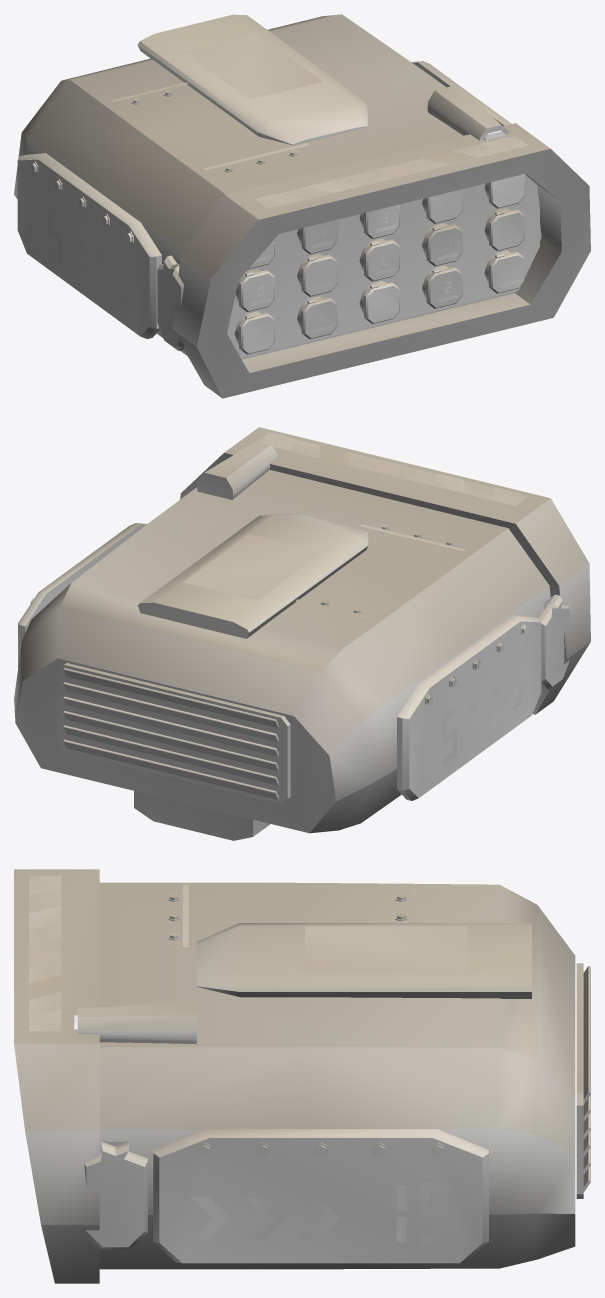
The model's file is missile-pod-h-left.glb.
The picture shows the model from 3 angles, top to bottom: view 1: azimuth 30°, elevation 25°; view 2: azimuth 150°, elevation 25°; view 3: azimuth 270°, elevation 25°; orthographic projection. The views are drawn at different scales.
Parts seen in each view (by area): view 1: Body, Door_11, Door_8, Door_13, Door_6, Door_10, Door_7, Door_14, Door_9, Door_5, Door_12, Door_1 (+3 smaller); view 2: Body; view 3: Body.
Boxes of the visible parts, x1=… form: Body: x1=14, y1=14, x2=590, y2=398; Door_11: x1=426, y1=267, x2=462, y2=308; Door_8: x1=301, y1=255, x2=337, y2=296; Door_13: x1=301, y1=297, x2=337, y2=339; Door_6: x1=426, y1=224, x2=462, y2=266; Door_10: x1=489, y1=251, x2=524, y2=293; Door_7: x1=364, y1=239, x2=399, y2=281; Door_14: x1=239, y1=312, x2=274, y2=354; Door_9: x1=239, y1=270, x2=274, y2=311; Door_5: x1=489, y1=209, x2=524, y2=250; Door_12: x1=364, y1=282, x2=399, y2=323; Door_1: x1=426, y1=189, x2=462, y2=223; Body: x1=14, y1=427, x2=590, y2=840; Body: x1=14, y1=869, x2=590, y2=1283.
Size of the model in its own units: 0.9996 by 0.5628 by 1.02.
